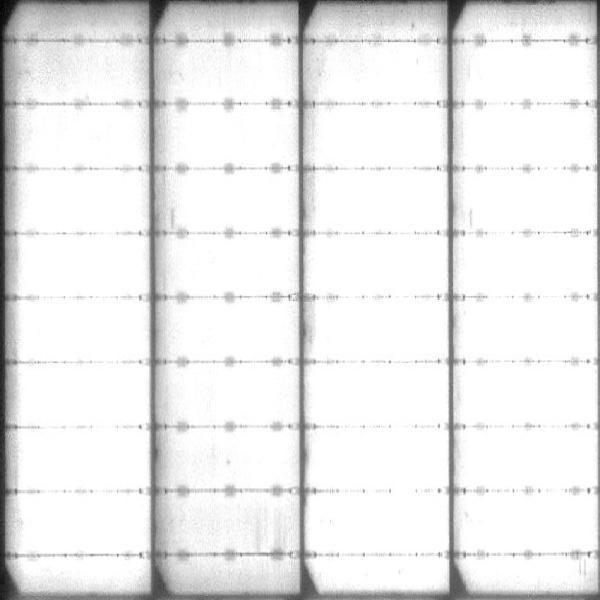hot_spot: (322, 433, 443, 487), (323, 114, 445, 167), (470, 301, 587, 353), (22, 177, 140, 228), (20, 304, 140, 354), (323, 173, 438, 225), (316, 497, 439, 545), (20, 496, 137, 546), (473, 434, 590, 484), (473, 366, 587, 417), (24, 239, 137, 290), (473, 112, 592, 159), (24, 433, 139, 481), (473, 498, 588, 546), (326, 305, 438, 353), (326, 369, 438, 417), (22, 370, 138, 416), (478, 243, 586, 291), (475, 175, 585, 222), (316, 244, 438, 286), (485, 47, 588, 94), (30, 120, 131, 166), (207, 246, 294, 292), (206, 376, 289, 420), (190, 315, 288, 352), (194, 184, 284, 223), (185, 121, 276, 157), (235, 437, 287, 480)
